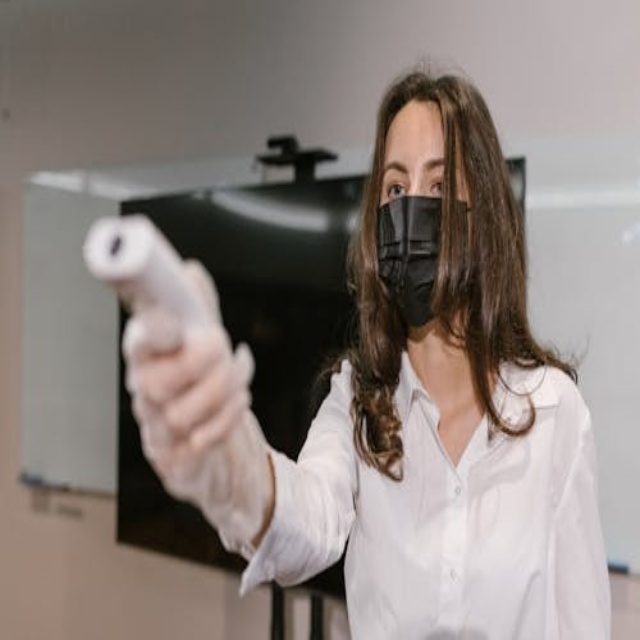Guantes: (136, 340, 276, 555)
Mascara: (376, 197, 469, 329)
Sin_gafas: (379, 150, 462, 202)
